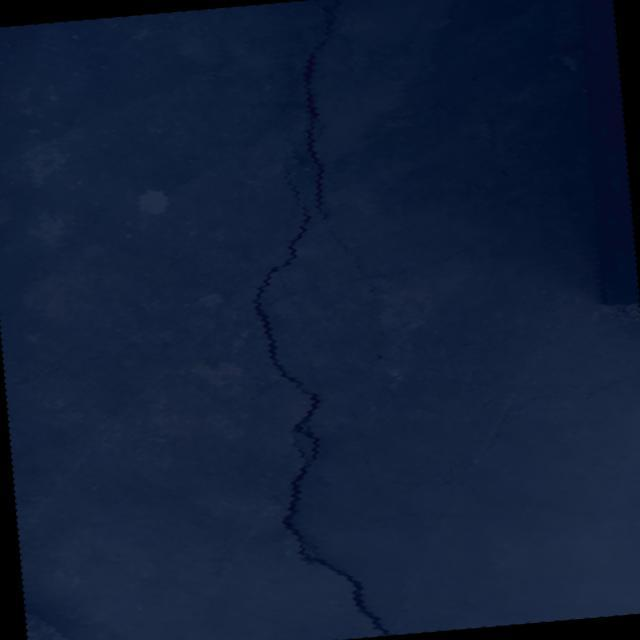crack: (244, 199, 393, 640), (294, 0, 391, 385), (418, 397, 544, 482), (282, 163, 300, 212)
